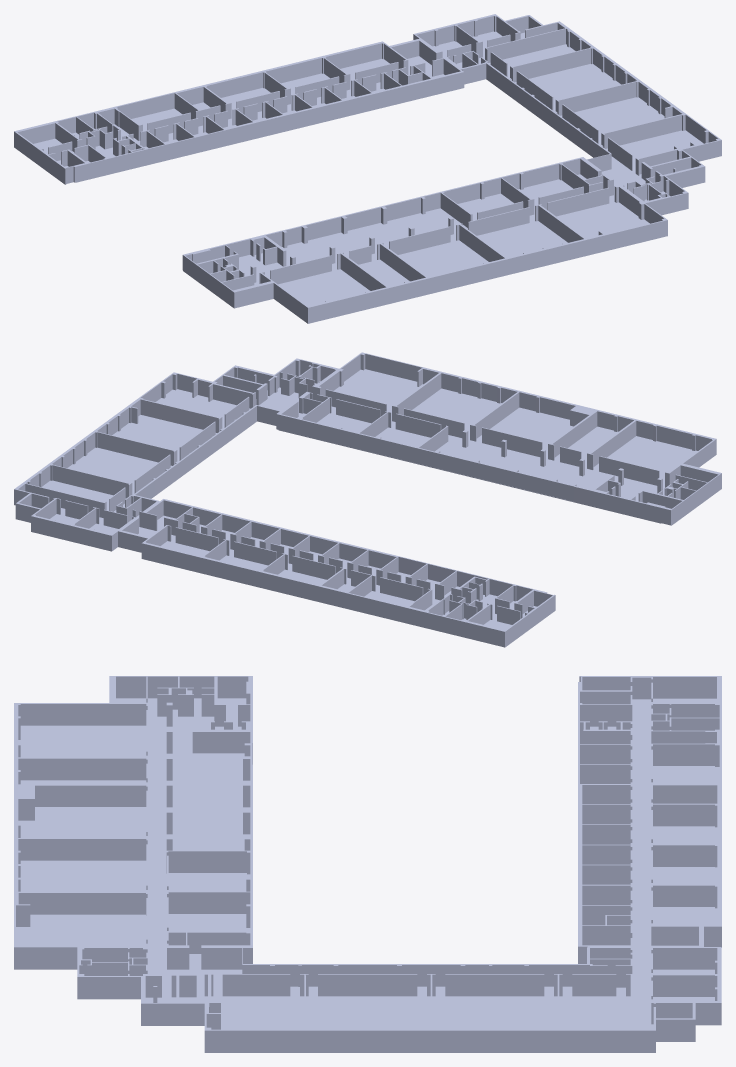
Rendered from fit3.FBX.
3 views of the same model, one above another, from view 1: azimuth 30°, elevation 25°; view 2: azimuth 150°, elevation 25°; view 3: azimuth 270°, elevation 25° (orthographic). The views are drawn at different scales.
Parts seen in each view (by area): view 1: 凸台-拉伸3[1], 凸台-拉伸2, 凸台-拉伸3[4], 凸台-拉伸3[15], 凸台-拉伸3[7], 凸台-拉伸3[13], 凸台-拉伸3[18], 凸台-拉伸3[17]; view 2: 凸台-拉伸3[1], 凸台-拉伸2, 凸台-拉伸3[13], 凸台-拉伸3[15], 凸台-拉伸3[6], 凸台-拉伸3[5], 凸台-拉伸3[27], 凸台-拉伸3[28], 凸台-拉伸3[24], 凸台-拉伸3[25], 凸台-拉伸3[7], 凸台-拉伸3[4] (+2 smaller); view 3: 凸台-拉伸3[1], 凸台-拉伸2, 凸台-拉伸3[17], 凸台-拉伸3[18], 凸台-拉伸3[16], 凸台-拉伸3[19].
Part boxes in pixels (x1,y1,x2,y2): 凸台-拉伸3[1]: (14,14,721,323); 凸台-拉伸2: (14,31,721,323); 凸台-拉伸3[4]: (547,187,609,216); 凸台-拉伸3[15]: (270,255,331,284); 凸台-拉伸3[7]: (468,207,529,235); 凸台-拉伸3[13]: (389,226,450,254); 凸台-拉伸3[18]: (516,71,553,110); 凸台-拉伸3[17]: (562,104,598,143); 凸台-拉伸3[1]: (14,352,721,646); 凸台-拉伸2: (14,369,721,647); 凸台-拉伸3[13]: (482,427,542,456); 凸台-拉伸3[15]: (599,456,659,485); 凸台-拉伸3[6]: (395,413,441,437); 凸台-拉伸3[5]: (336,399,380,423); 凸台-拉伸3[27]: (292,556,335,579); 凸台-拉伸3[28]: (380,577,423,601); 凸台-拉伸3[24]: (175,527,218,551); 凸台-拉伸3[25]: (234,541,276,565); 凸台-拉伸3[7]: (404,408,464,437); 凸台-拉伸3[4]: (325,389,386,416); 凸台-拉伸3[1]: (14,676,721,1051); 凸台-拉伸2: (14,698,721,1052); 凸台-拉伸3[17]: (318,974,417,996); 凸台-拉伸3[18]: (445,974,544,996); 凸台-拉伸3[16]: (222,974,290,996); 凸台-拉伸3[19]: (572,974,616,996).
Bounding box in the file's own units: 4157 × 122 × 3510.
